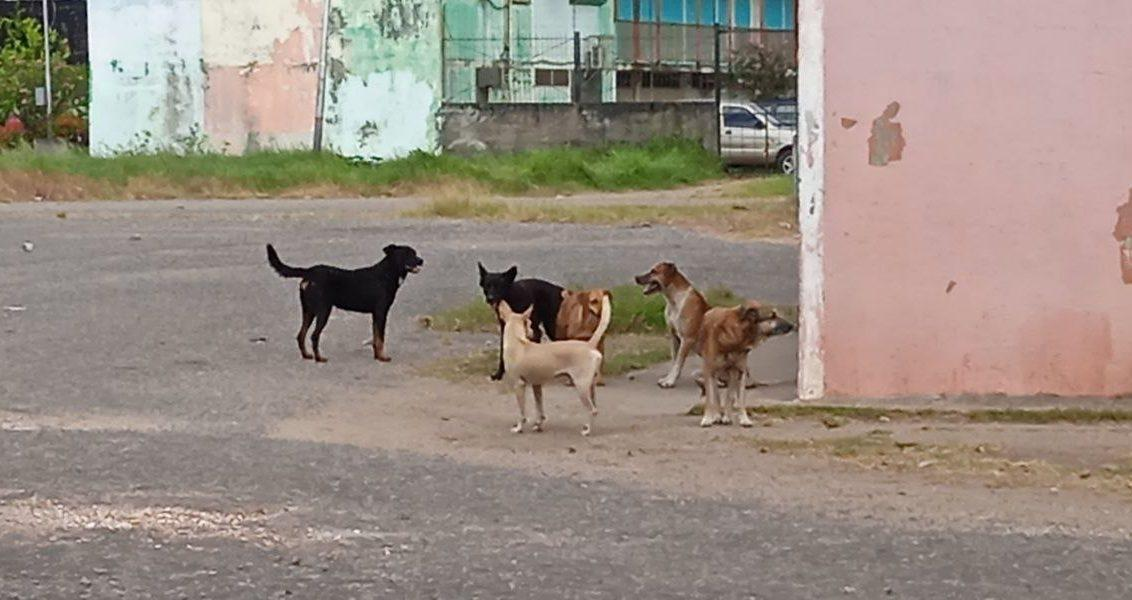normal_dogs: (261, 216, 427, 362), (493, 298, 619, 445), (694, 281, 792, 451), (468, 256, 588, 369), (632, 258, 723, 392), (550, 278, 615, 386)
